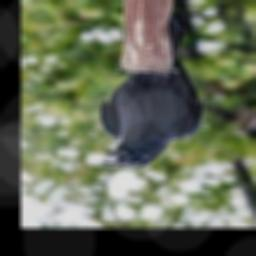Crow: (99, 12, 203, 169)
